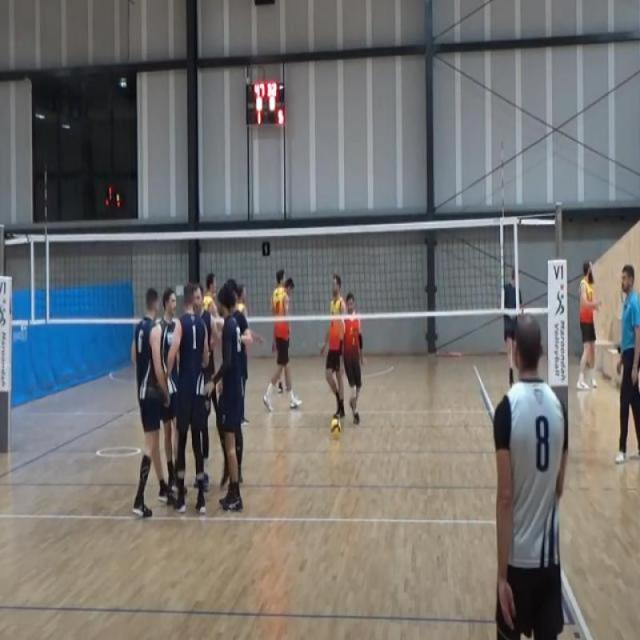volleyball: (328, 416, 342, 440)
